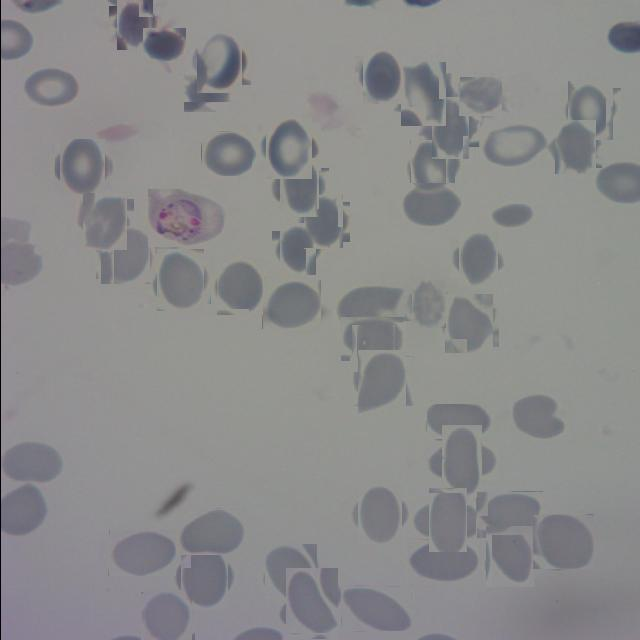leukocyte: (280, 572, 342, 634), (531, 514, 593, 569), (432, 432, 490, 490), (340, 586, 411, 632), (108, 529, 176, 576), (176, 509, 245, 555), (406, 538, 478, 582), (475, 491, 542, 538), (176, 550, 232, 606), (262, 545, 318, 601), (481, 528, 537, 584), (478, 121, 546, 167), (352, 354, 408, 409), (395, 66, 450, 121), (152, 252, 206, 308), (261, 121, 316, 175), (345, 313, 400, 367), (261, 279, 320, 329), (98, 228, 152, 282), (352, 487, 406, 541), (441, 296, 495, 350), (192, 35, 246, 89), (0, 440, 65, 484), (508, 391, 566, 439), (564, 84, 616, 137), (336, 284, 403, 325), (399, 182, 461, 226), (406, 143, 458, 195), (213, 261, 265, 313), (422, 494, 474, 546), (78, 196, 130, 247), (141, 590, 192, 640), (20, 66, 80, 108), (424, 103, 474, 153), (56, 142, 106, 192), (274, 164, 324, 212), (453, 235, 501, 283), (358, 52, 406, 100), (550, 123, 598, 171), (200, 131, 251, 176), (299, 199, 346, 246), (426, 404, 486, 439), (275, 228, 319, 272), (112, 2, 156, 46), (182, 74, 232, 112), (458, 76, 502, 116), (408, 284, 449, 324), (142, 28, 185, 61), (492, 202, 539, 229)
ring: (147, 189, 223, 247)
